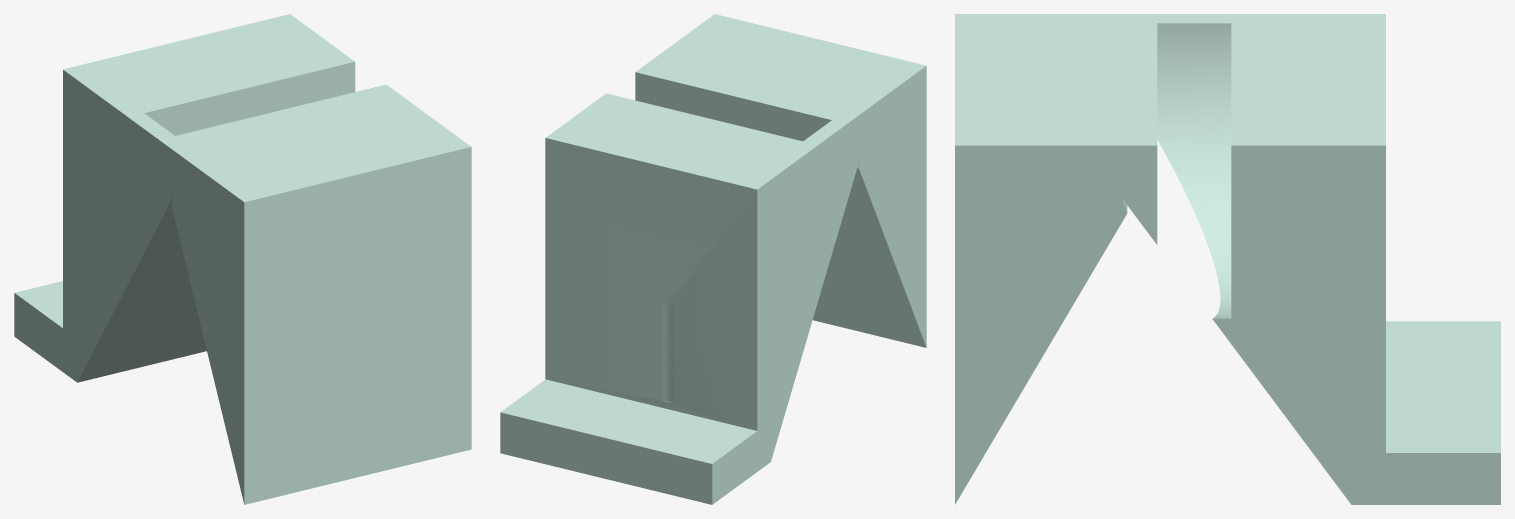
3 views of the same model, side by side, from view 1: azimuth 30°, elevation 25°; view 2: azimuth 150°, elevation 25°; view 3: azimuth 270°, elevation 25° (orthographic). The views are drawn at different scales.
Parts seen in each view (by area): view 1: Renderer Node; view 2: Renderer Node; view 3: Renderer Node.
Boxes of the visible parts, left/top/right/bottom form: Renderer Node: left=14, top=14, right=471, bottom=504; Renderer Node: left=500, top=14, right=926, bottom=504; Renderer Node: left=955, top=14, right=1500, bottom=504.
Bounding box in the file's own units: 0.7578 × 0.9646 × 1.33.
